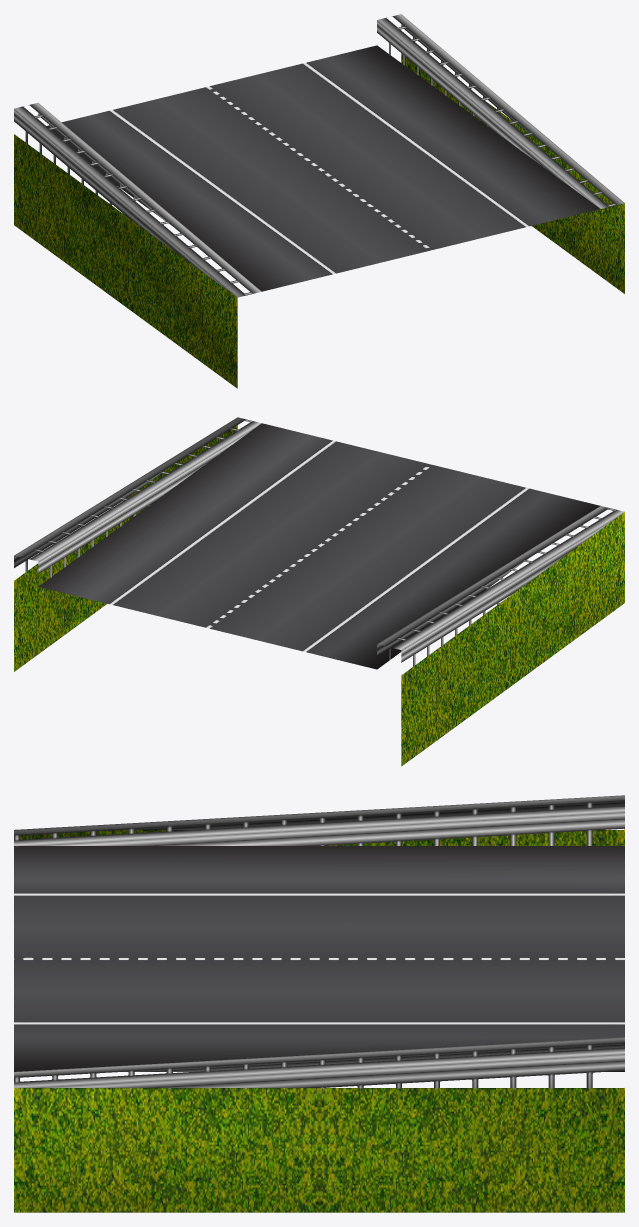
File: naar_weg_met_vangrail.fbx
3 views of the same model, one above another, from view 1: azimuth 30°, elevation 25°; view 2: azimuth 150°, elevation 25°; view 3: azimuth 270°, elevation 25° (orthographic). The views are drawn at different scales.
Parts seen in each view (by area): view 1: naar_weg_met_vangrail; view 2: naar_weg_met_vangrail; view 3: naar_weg_met_vangrail.
Part boxes in pixels (x1,y1,x2,y2): naar_weg_met_vangrail: (14,14,624,388); naar_weg_met_vangrail: (14,417,624,766); naar_weg_met_vangrail: (14,795,624,1212).
Size of the model in its own units: 1000 by 288 by 1000.
